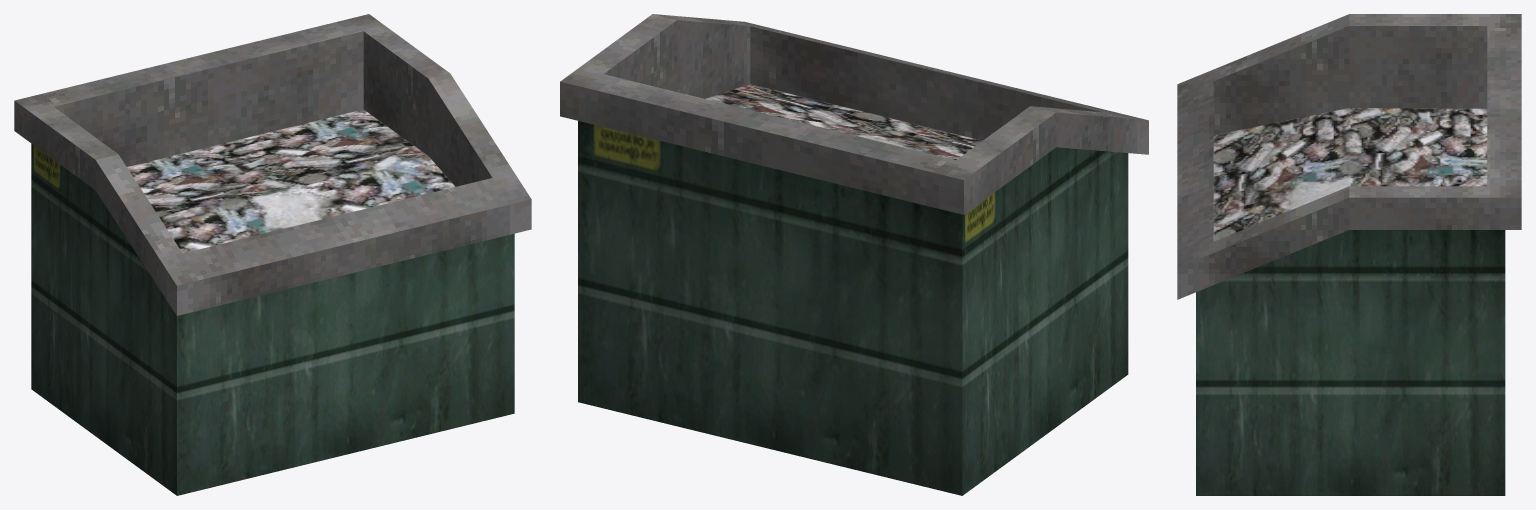
Rendered from dyn_dumpster_1.obj.
3 views of the same model, side by side, from view 1: azimuth 30°, elevation 25°; view 2: azimuth 150°, elevation 25°; view 3: azimuth 270°, elevation 25° (orthographic). The views are drawn at different scales.
Parts seen in each view (by area): view 1: DYN_DUMPSTER_1; view 2: DYN_DUMPSTER_1; view 3: DYN_DUMPSTER_1.
Part boxes in pixels (<box>): DYN_DUMPSTER_1: <box>14,14,531,495</box>; DYN_DUMPSTER_1: <box>560,14,1148,495</box>; DYN_DUMPSTER_1: <box>1177,14,1521,495</box>.
Bounding box in the file's own units: 1.74 × 1.34 × 1.38.
